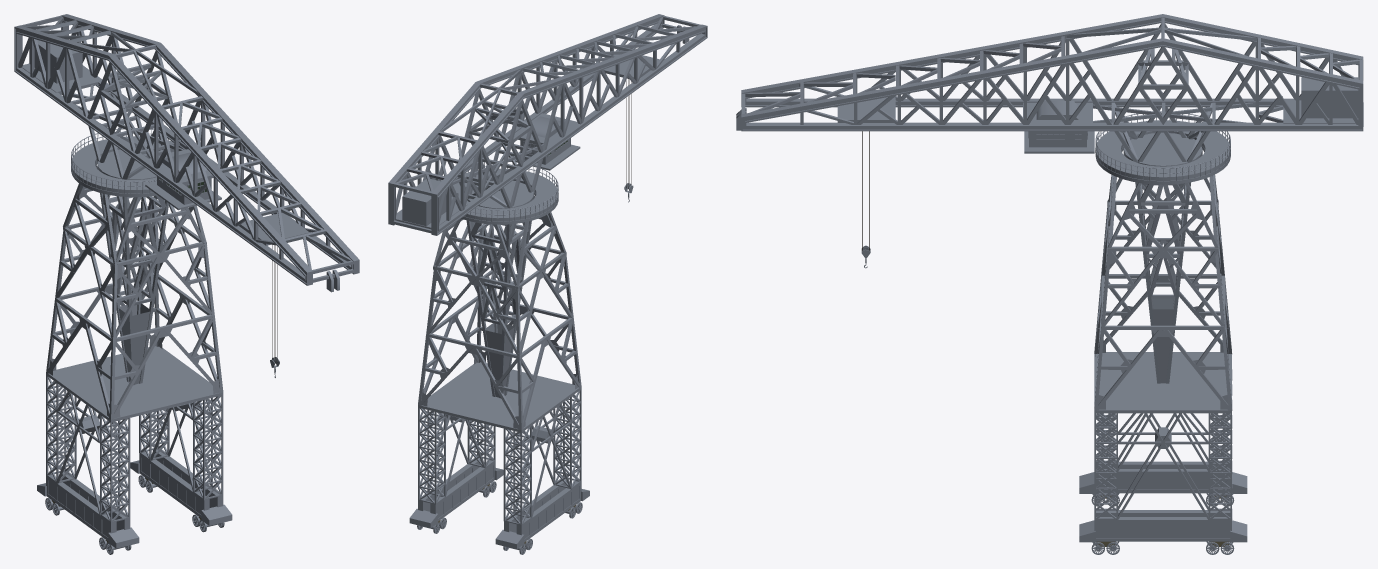
Rendered from uploads_files_778960_ijn+40t+cran.fbx.
3 views of the same model, side by side, from view 1: azimuth 30°, elevation 25°; view 2: azimuth 150°, elevation 25°; view 3: azimuth 270°, elevation 25° (orthographic). The views are drawn at different scales.
Visible parts, largest first — view 1: arm, main, pad; view 2: main, arm, pad; view 3: arm, main, pad.
Boxes of the visible parts, <box> form: arm: <box>14,14,359,385</box>; main: <box>37,161,232,554</box>; pad: <box>239,212,309,377</box>; main: <box>409,192,589,554</box>; arm: <box>388,14,707,398</box>; pad: <box>604,50,659,202</box>; arm: <box>736,14,1363,383</box>; main: <box>1079,145,1247,554</box>; pad: <box>837,97,895,268</box>.
Size of the model in its own units: 21200 by 81800 by 93300.
